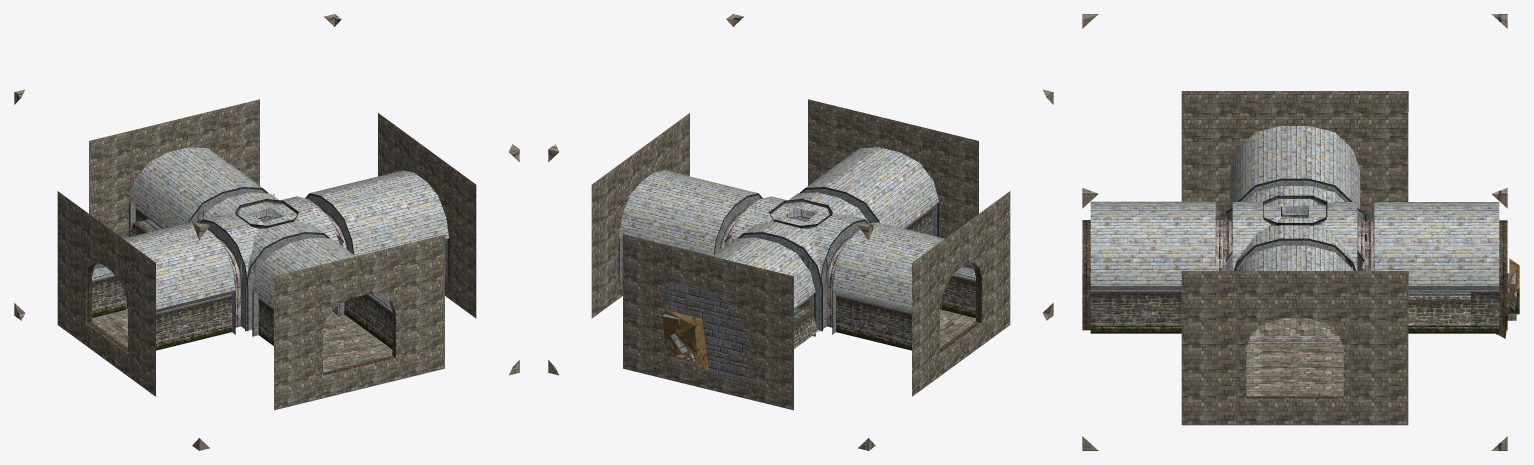
File: lbg_3a.glb
3 views of the same model, side by side, from view 1: azimuth 30°, elevation 25°; view 2: azimuth 150°, elevation 25°; view 3: azimuth 270°, elevation 25° (orthographic). The views are drawn at different scales.
Visible parts, largest first — view 1: lbg_3a; view 2: lbg_3a; view 3: lbg_3a.
Part boxes in pixels (x1,y1,x2,y2): lbg_3a: [14, 14, 519, 450]; lbg_3a: [548, 14, 1053, 450]; lbg_3a: [1082, 14, 1519, 450].
Size of the model in its own units: 15 by 10 by 15.42.
Materials: 13 (13 with a texture image).
